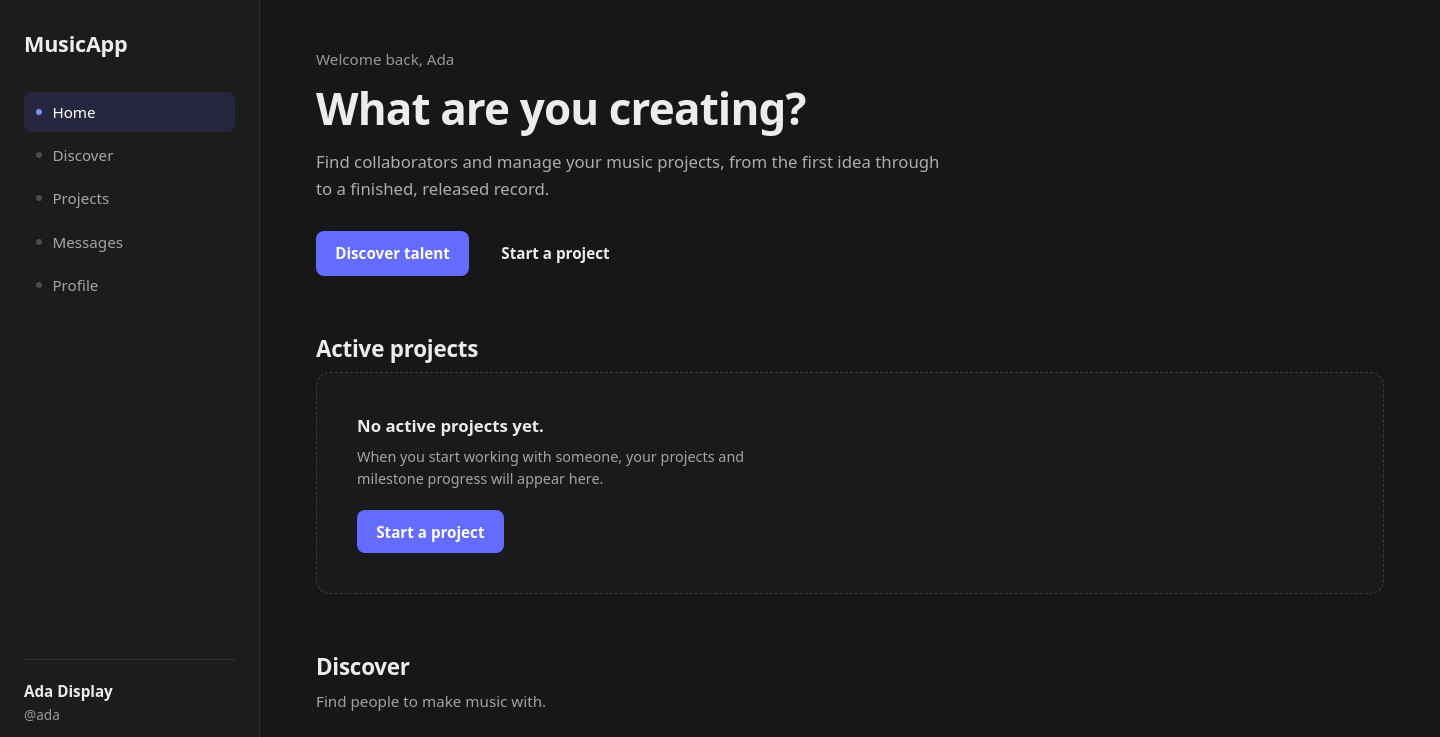
Test: MVP-013 discover search › shows the empty catalog and the empty search state
This screenshot has width=1440, height=737.
Click the button "Discover" at [130, 155], box top-left (24, 136), bottom-right (235, 175)
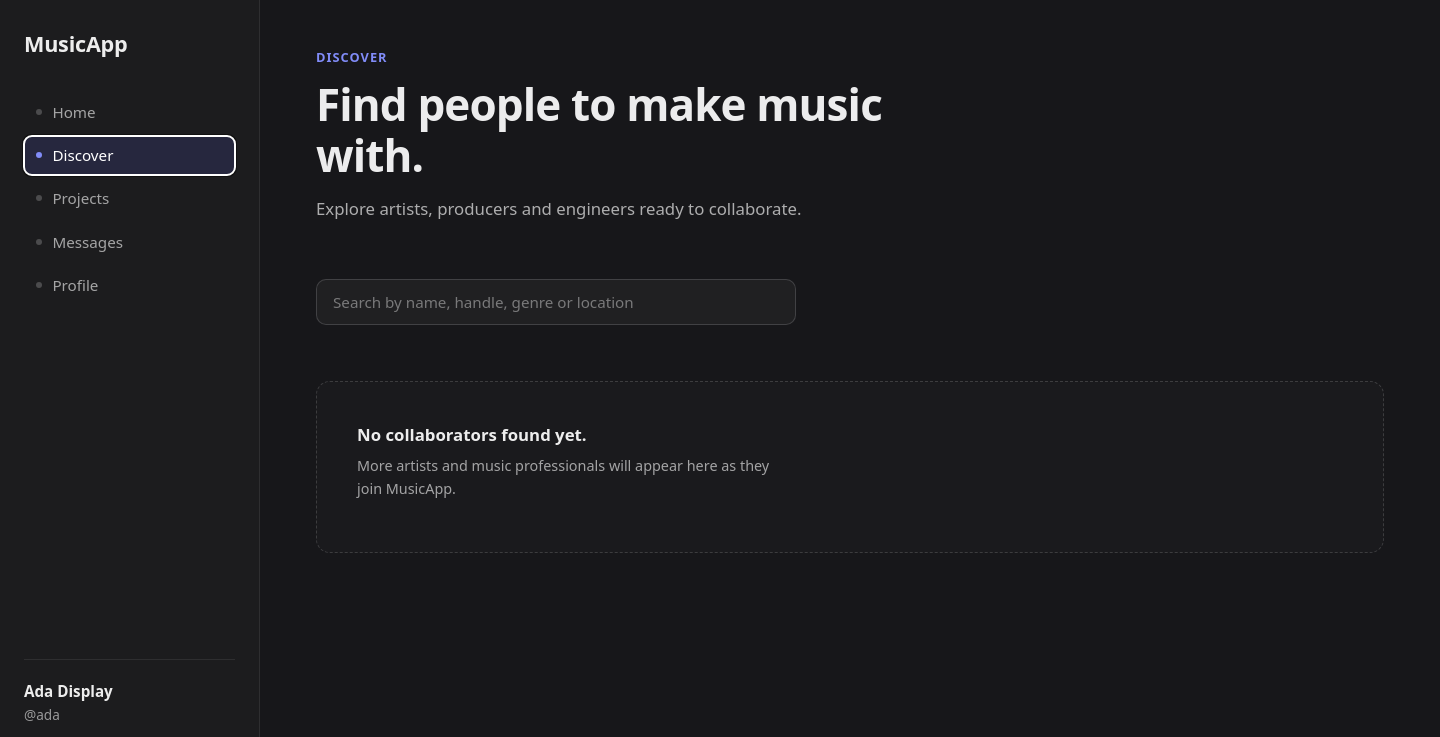
Expected: the text "No collaborators found yet." is shown, top-left (357, 422), bottom-right (587, 448)
Type "nyx" into the search field labelled "Search by name, handle, genre or location" at [556, 302], box top-left (316, 279), bottom-right (796, 325)
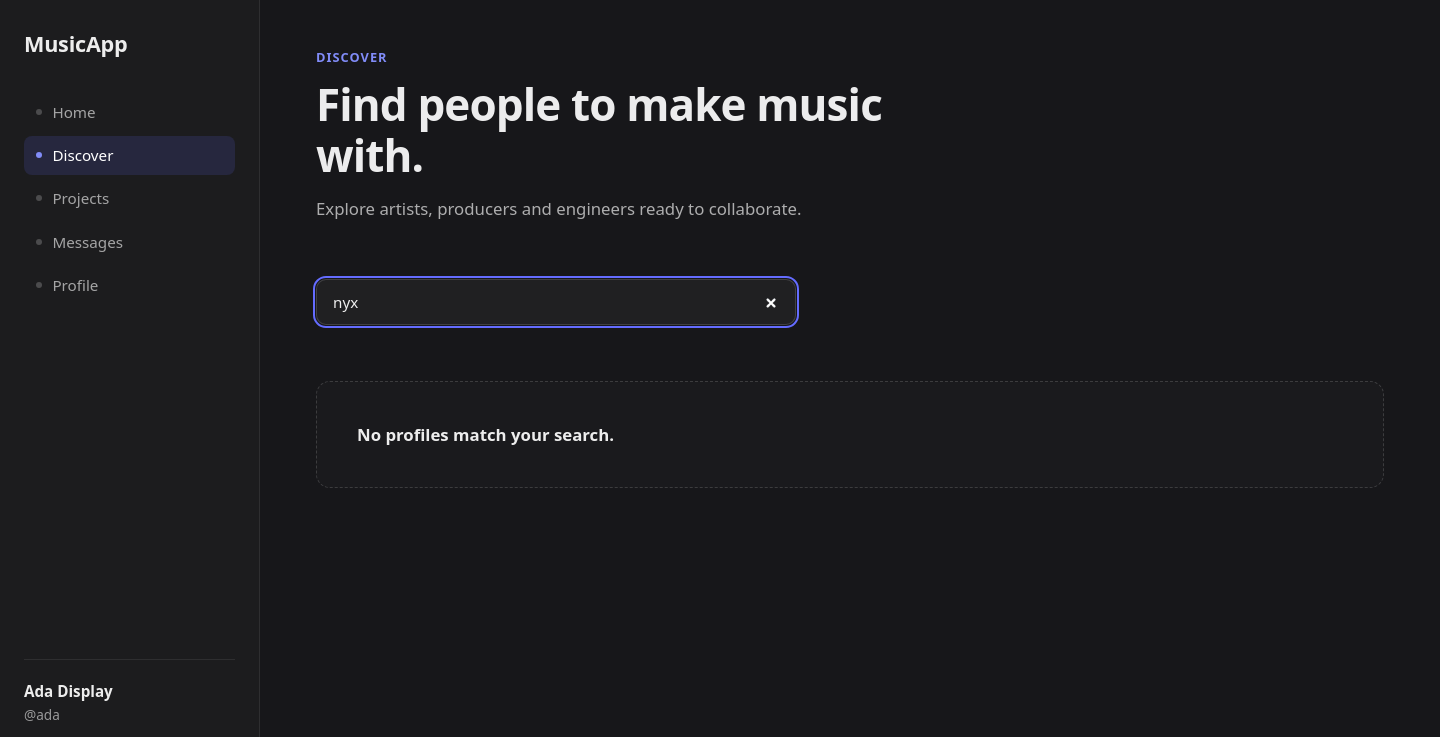
Expected: the text "No profiles match your search." is shown, top-left (357, 422), bottom-right (614, 448)
